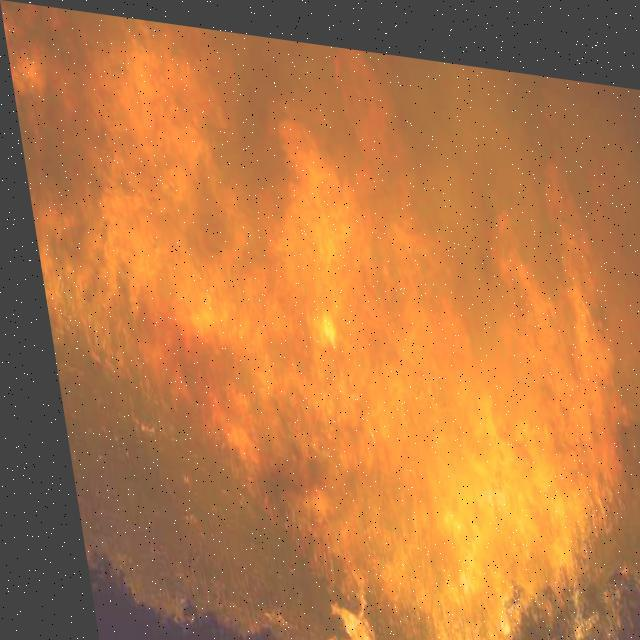Fire: (18, 19, 639, 639)
